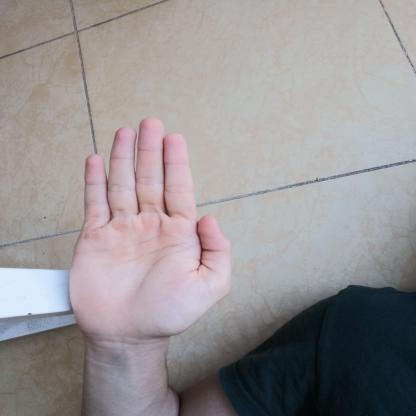SEEN: (52, 108, 246, 352)
